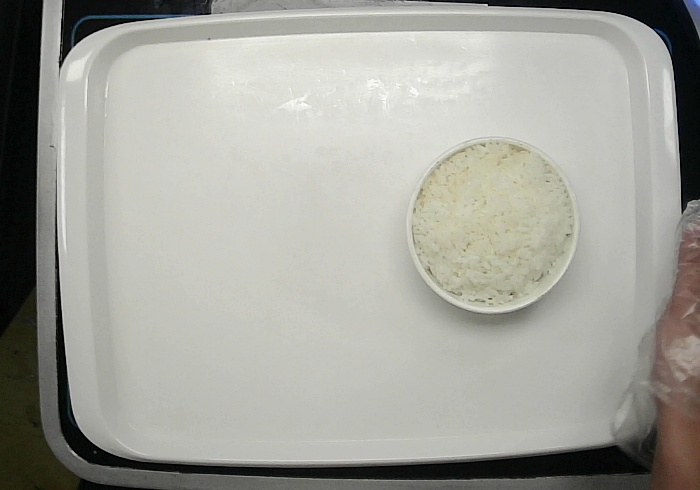HZYJPL-Fan_Wan: (403, 132, 581, 314)
